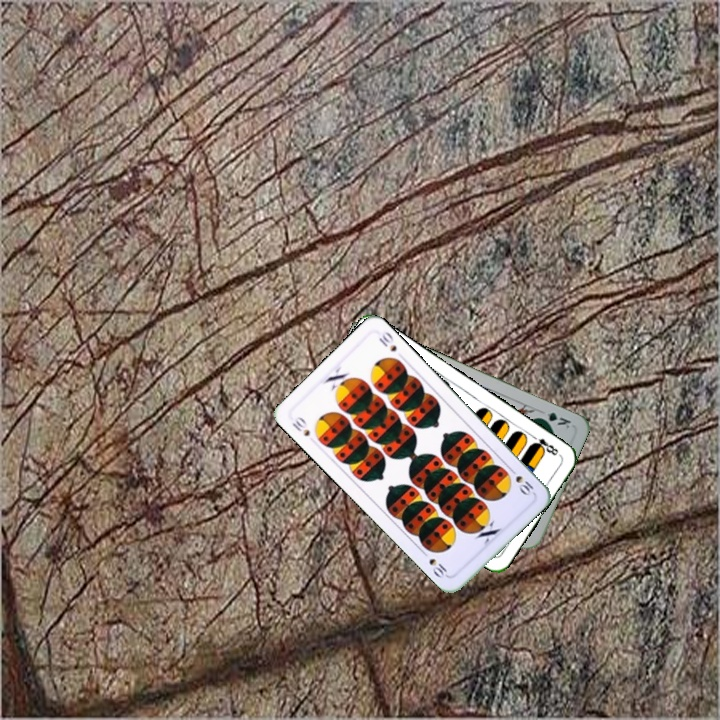E8: (527, 431, 561, 458)
GK: (534, 408, 573, 431)
S10: (505, 463, 537, 498), (288, 413, 312, 439)
